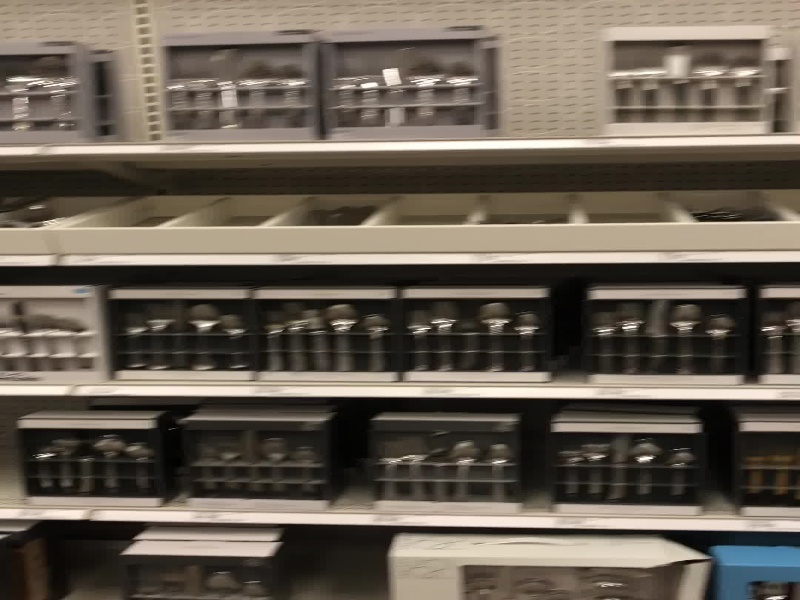void: (286, 534, 395, 600), (39, 522, 120, 598)
